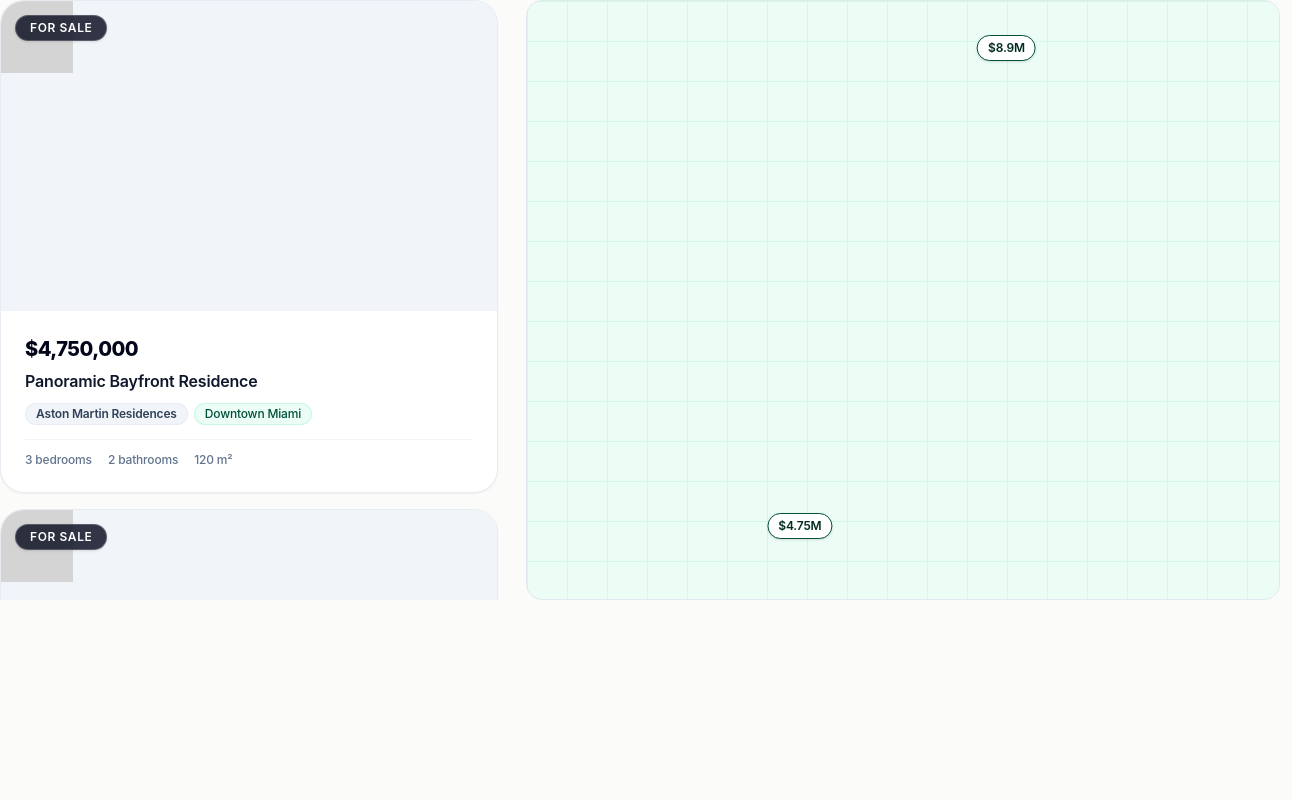
Test: SearchMapView › renders compact USD luxury pin badges and previews building name and HOA for Miami residences
Check: the button with test id "map-pin" reads "$8.9M", box [977,35,1036,61]
// Click on Aston Martin pin
What coordinates should you click on to do the following:
click the button with test id "map-pin"
I would click on:
 (800, 526)
Its box is [767,513,832,539].
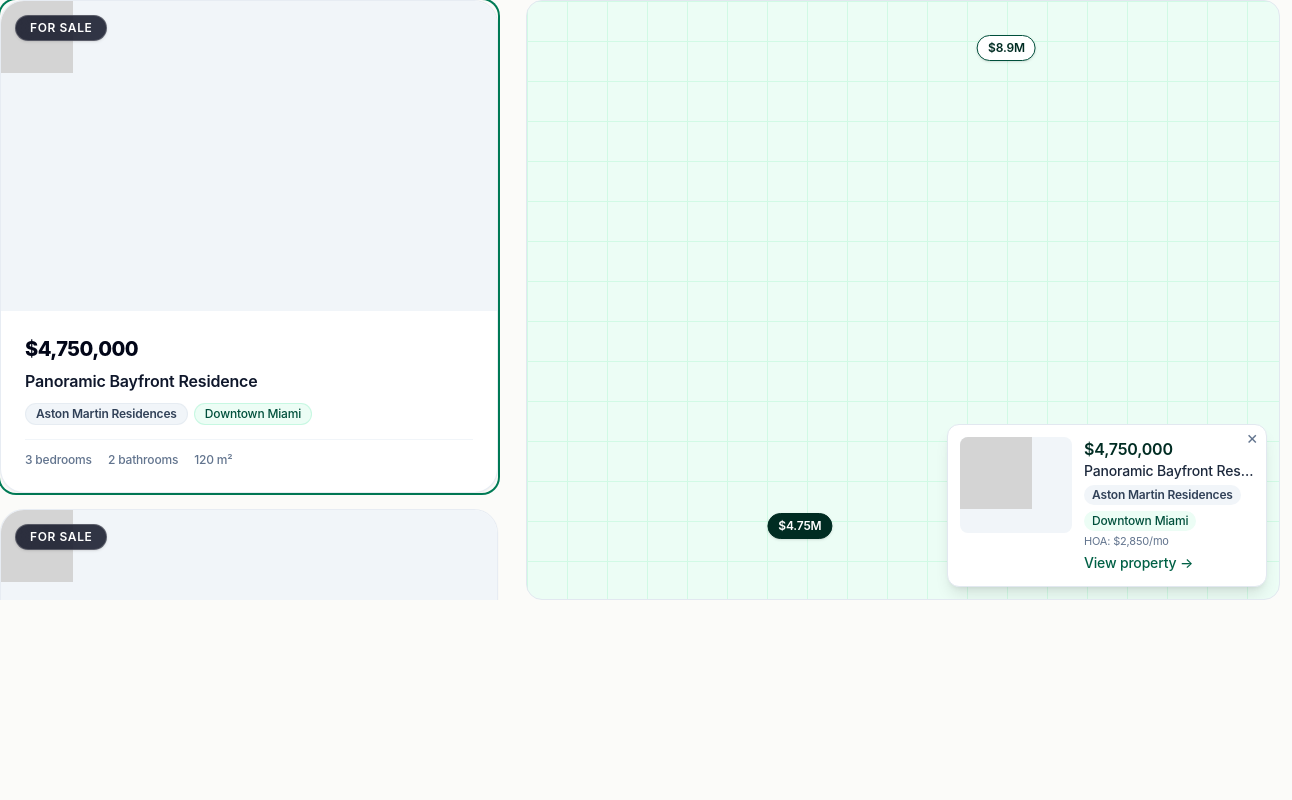
Check: the 2nd text "$4,750,000" is shown, box [1084,438,1173,458]
Check: the text with test id "preview-building" reads "Aston Martin Residences", box [1092,486,1233,502]
Check: the text with test id "preview-neighborhood" reads "Downtown Miami", box [1092,512,1188,528]
